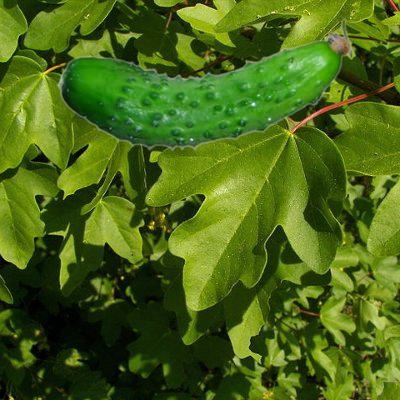cucumber: (56, 18, 350, 150)
